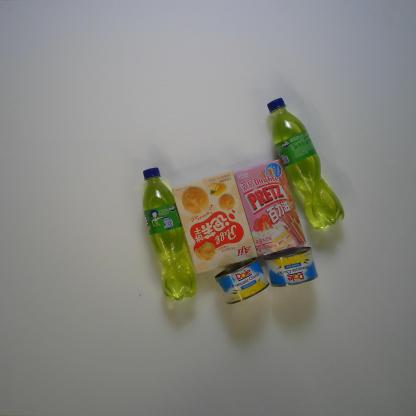Canned Food: (213, 258, 269, 306), (265, 245, 319, 290)
Dessert: (170, 171, 259, 275), (233, 158, 307, 257)
Drink: (266, 97, 345, 231), (141, 166, 198, 303)
